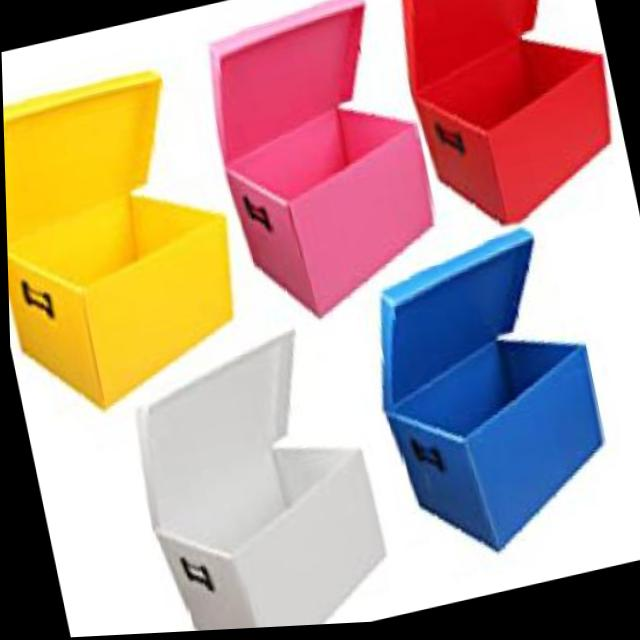box: (344, 211, 632, 591), (1, 30, 257, 432), (107, 310, 407, 636), (190, 0, 452, 338), (382, 0, 634, 249)
